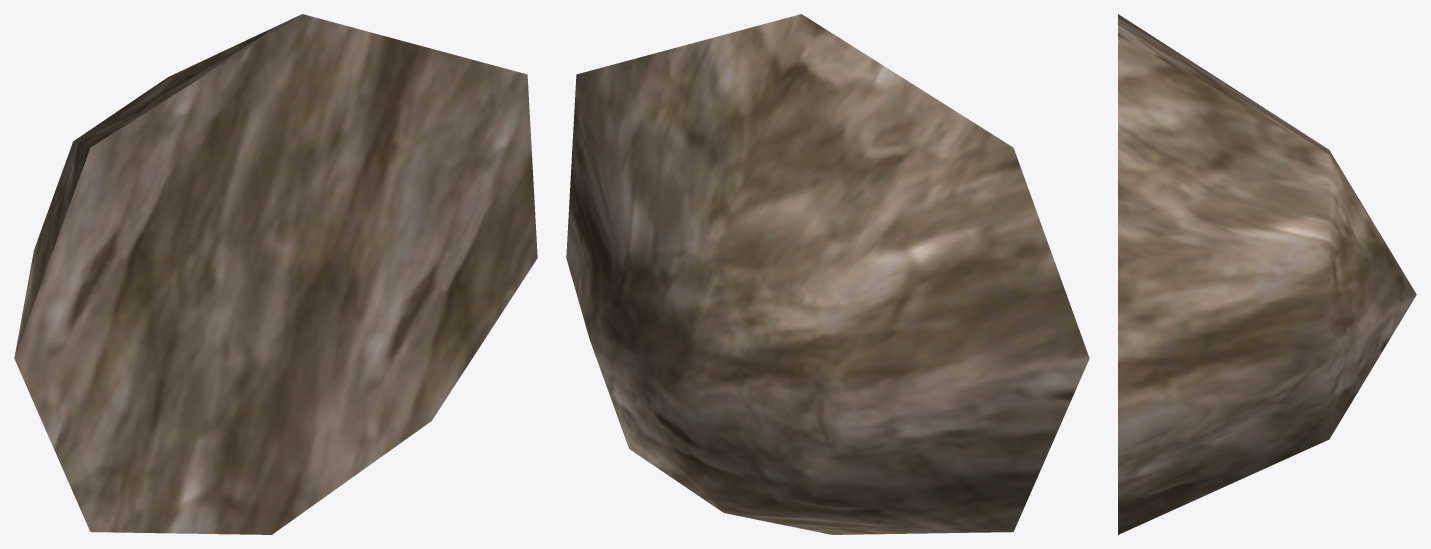
The model's file is INST_OH_ROCK_06.fbx.
The picture shows the model from 3 angles, left to right: view 1: azimuth 30°, elevation 25°; view 2: azimuth 150°, elevation 25°; view 3: azimuth 270°, elevation 25°; orthographic projection.
Visible parts, largest first — view 1: INST_OH_ROCK_06; view 2: INST_OH_ROCK_06; view 3: INST_OH_ROCK_06.
Boxes of the visible parts, left/top/right/bottom form: INST_OH_ROCK_06: left=14, top=14, right=537, bottom=534; INST_OH_ROCK_06: left=566, top=14, right=1089, bottom=534; INST_OH_ROCK_06: left=1118, top=14, right=1416, bottom=534.
Size of the model in its own units: 6726 by 6306 by 3338.
Materials: 1 (1 with a texture image).
